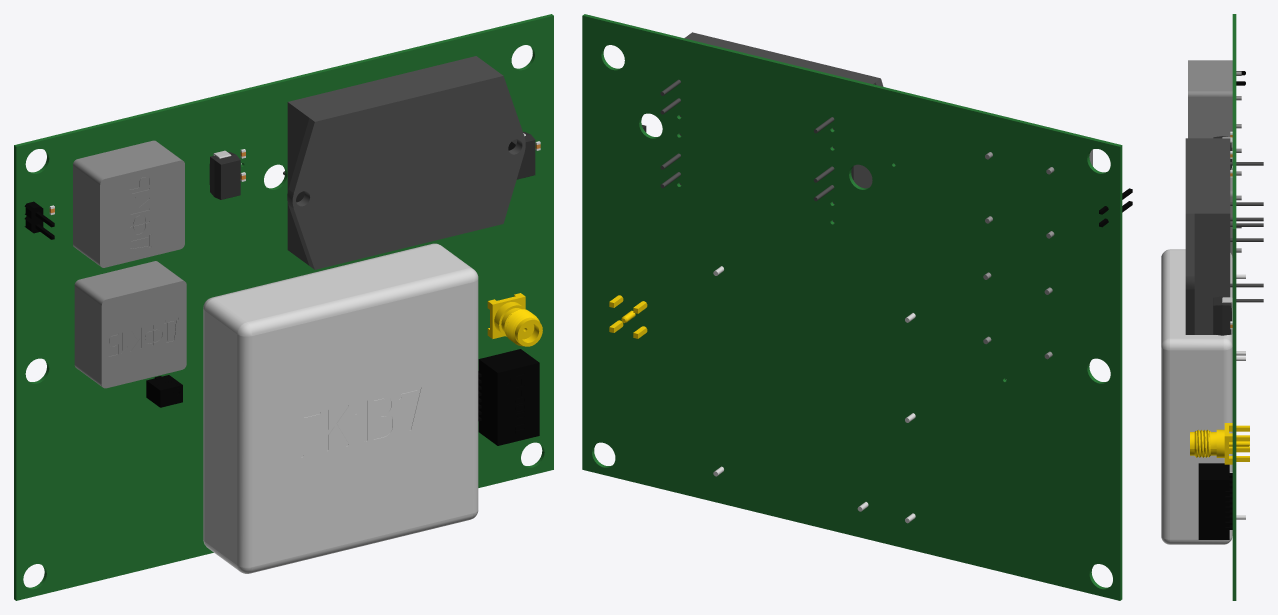
File: PCB131.glb
The picture shows the model from 3 angles, left to right: view 1: azimuth 30°, elevation 25°; view 2: azimuth 150°, elevation 25°; view 3: azimuth 270°, elevation 25°; orthographic projection. The views are drawn at different scales.
Parts seen in each view (by area): view 1: Open_CASCADE_STEP_translator_75_111, Ċ137-19, ̈́ʱ0, Ŕ10, Ŕ10_1, ӌ100-1-1, User_Library-SMA_Stehend_Amp_132134RP-1_1, Open_CASCADE_STEP_translator_68_811_1, 3214W; view 2: Open_CASCADE_STEP_translator_75_111, ̈́ʱ0; view 3: Ċ137-19, ̈́ʱ0, Ŕ10_1, Open_CASCADE_STEP_translator_75_111, ӌ100-1-1, User_Library-SMA_Stehend_Amp_132134RP-1_1, Open_CASCADE_STEP_translator_68_811, Ŕ10.
Boxes of the visible parts, x1=… form: Open_CASCADE_STEP_translator_75_111: x1=14, y1=14, x2=553, y2=600; Ċ137-19: x1=203, y1=243, x2=478, y2=573; ̈́ʱ0: x1=283, y1=56, x2=525, y2=269; Ŕ10: x1=74, y1=261, x2=186, y2=388; Ŕ10_1: x1=73, y1=140, x2=184, y2=267; ӌ100-1-1: x1=478, y1=349, x2=539, y2=445; User_Library-SMA_Stehend_Amp_132134RP-1_1: x1=487, y1=293, x2=542, y2=346; Open_CASCADE_STEP_translator_68_811_1: x1=209, y1=152, x2=240, y2=199; 3214W: x1=146, y1=375, x2=182, y2=407; Open_CASCADE_STEP_translator_75_111: x1=582, y1=14, x2=1122, y2=600; ̈́ʱ0: x1=660, y1=32, x2=895, y2=222; Ċ137-19: x1=1161, y1=249, x2=1245, y2=544; ̈́ʱ0: x1=1185, y1=138, x2=1263, y2=334; Ŕ10_1: x1=1188, y1=60, x2=1241, y2=161; Open_CASCADE_STEP_translator_75_111: x1=1232, y1=14, x2=1236, y2=600; ӌ100-1-1: x1=1198, y1=463, x2=1232, y2=539; User_Library-SMA_Stehend_Amp_132134RP-1_1: x1=1190, y1=423, x2=1249, y2=464; Open_CASCADE_STEP_translator_68_811: x1=1213, y1=296, x2=1231, y2=335; Ŕ10: x1=1230, y1=171, x2=1241, y2=257.
Bounding box in the file's own units: 114 × 92 × 23.
